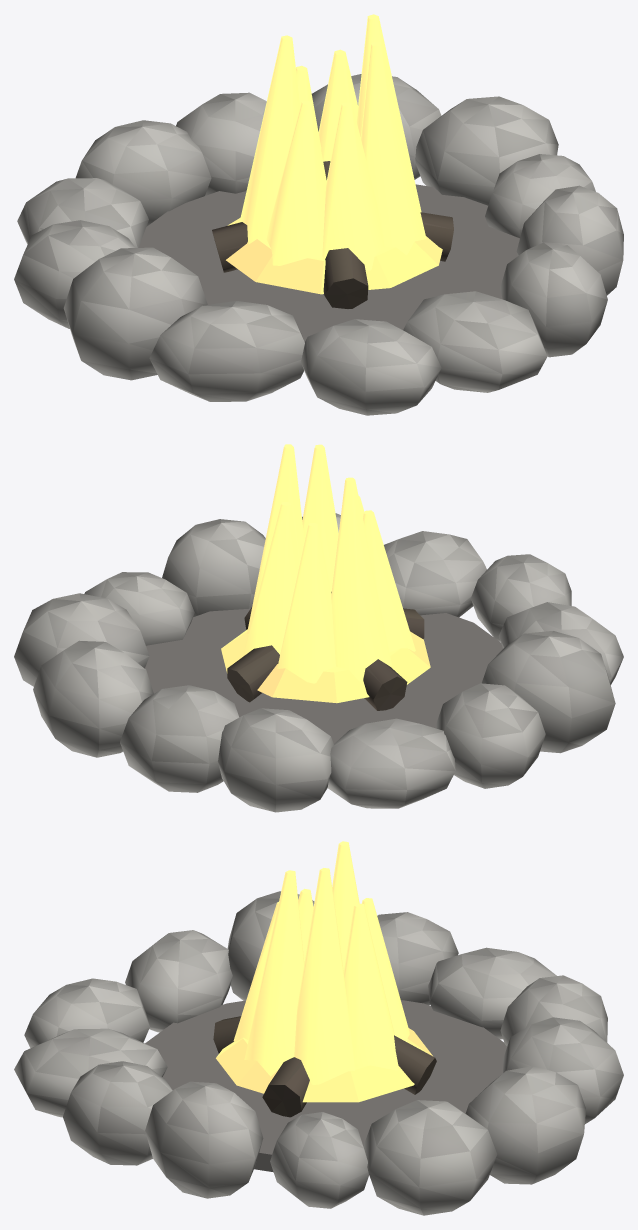
Rendered from camp_fire_ring_a.glb.
3 renders of one model, top to bottom at view 1: azimuth 30°, elevation 25°; view 2: azimuth 150°, elevation 25°; view 3: azimuth 270°, elevation 25°, orthographic. The views are drawn at different scales.
Parts seen in each view (by area): view 1: body, flame; view 2: body, flame; view 3: body, flame.
Part boxes in pixels (left/top/right/bottom): body: left=14, top=74, right=623, bottom=415; flame: left=226, top=14, right=442, bottom=294; body: left=14, top=513, right=623, bottom=812; flame: left=221, top=444, right=430, bottom=703; body: left=14, top=891, right=623, bottom=1215; flame: left=216, top=841, right=432, bottom=1102.
Bounding box in the file's own units: 1.12 × 0.5288 × 1.11.
